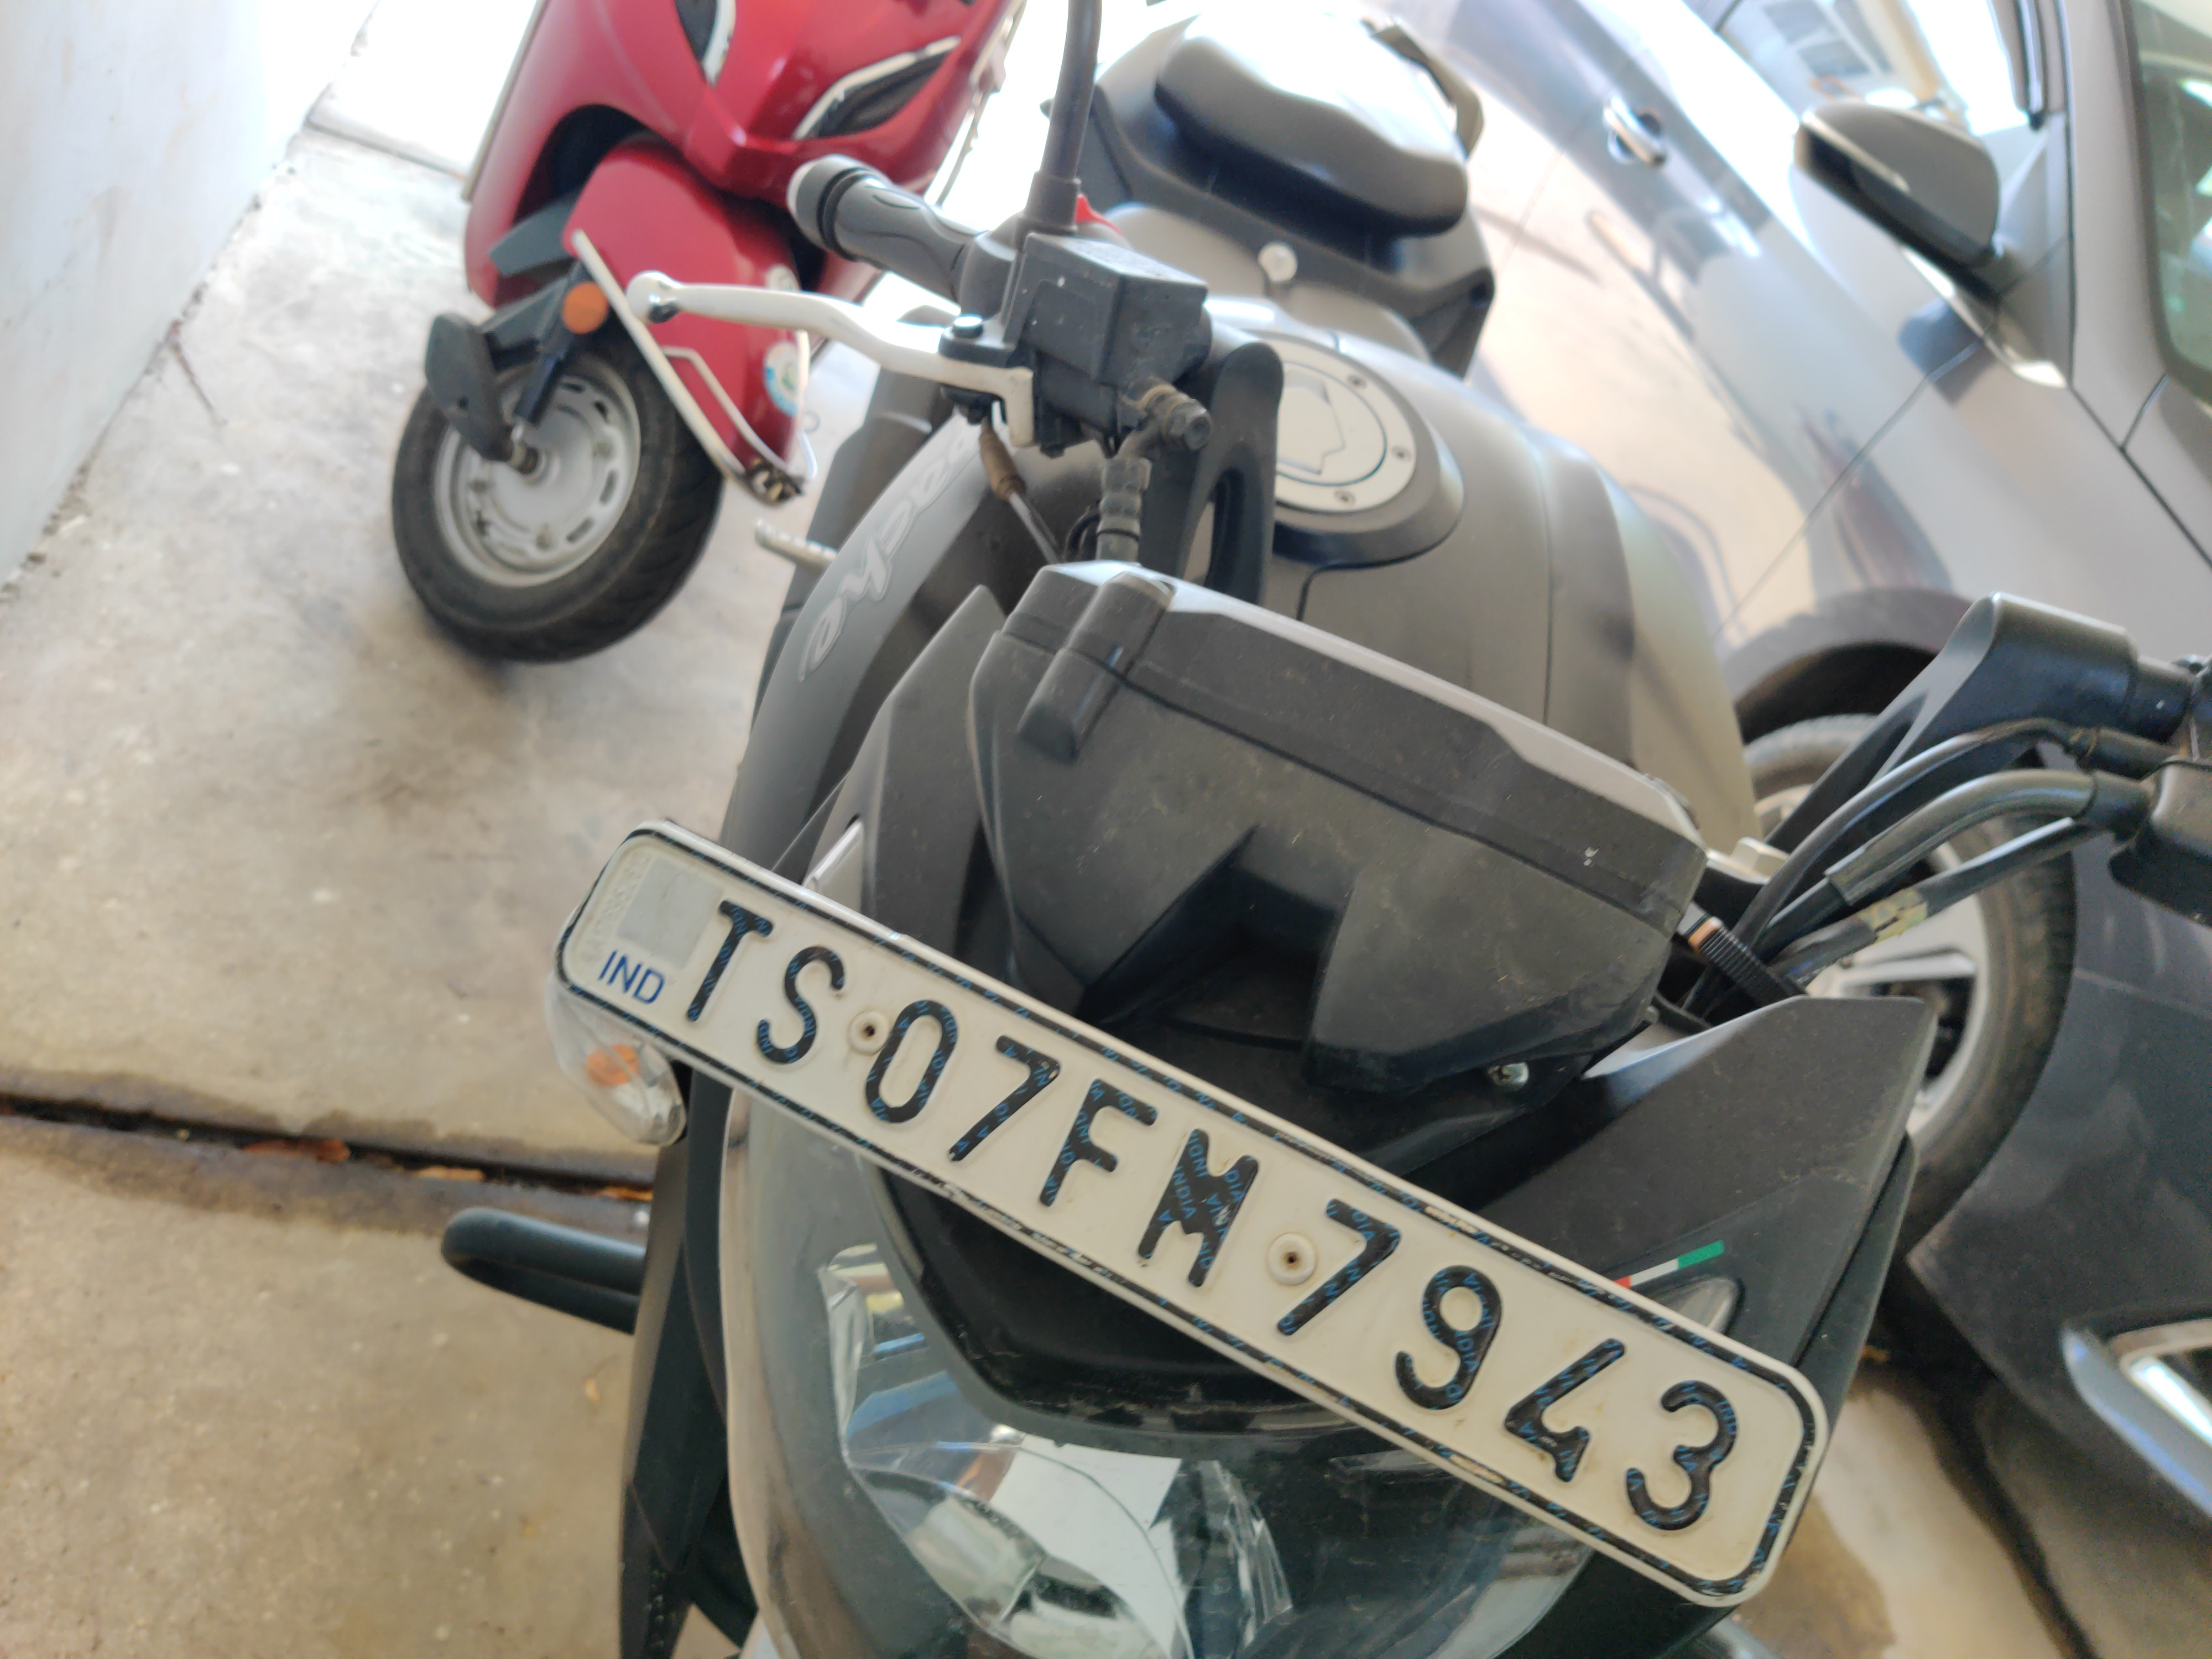plate: (525, 790, 1857, 1624)
